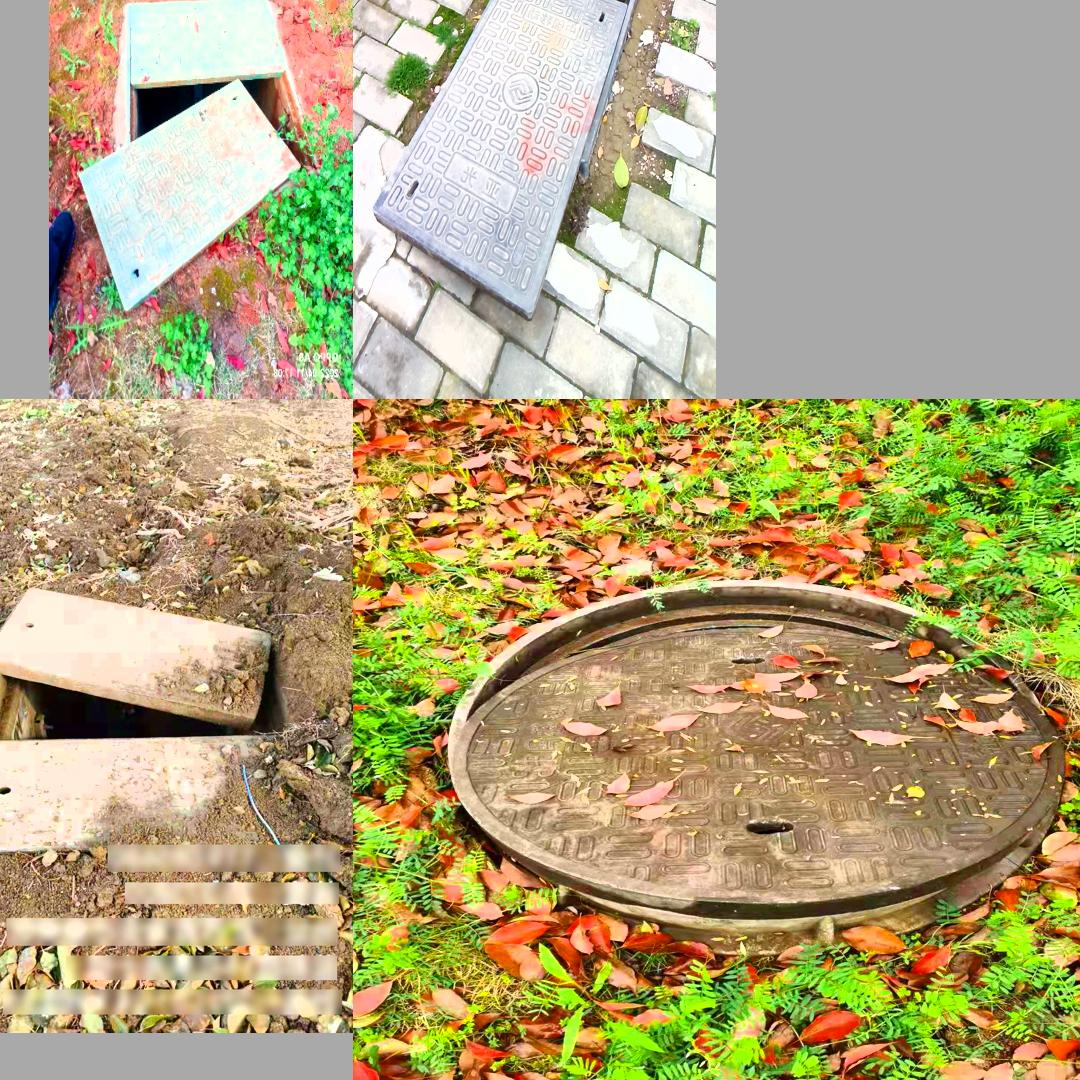uncovered: (445, 578, 1069, 940), (0, 576, 329, 941), (369, 0, 657, 283), (77, 0, 316, 310)
